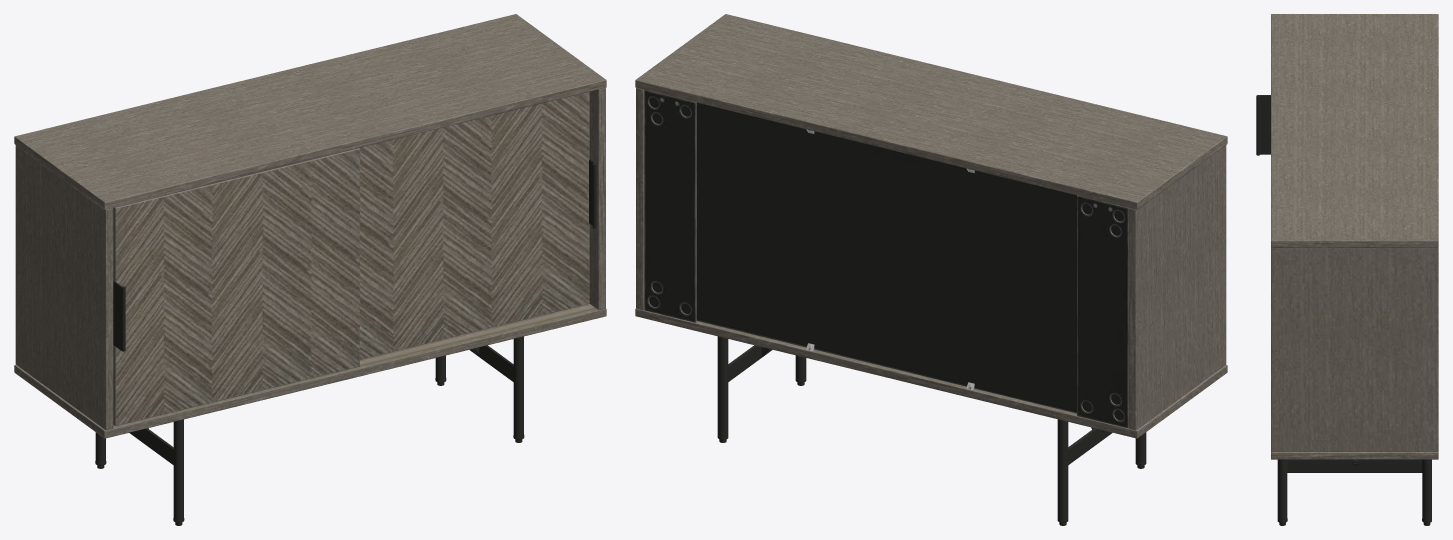
The model's file is abo-B07QF9QCZ1.glb.
3 renders of one model, left to right at view 1: azimuth 30°, elevation 25°; view 2: azimuth 150°, elevation 25°; view 3: azimuth 270°, elevation 25°, orthographic. The views are drawn at different scales.
Size of the model in its own units: 1.19 by 0.787 by 0.405.
1 material, 1 textured.
